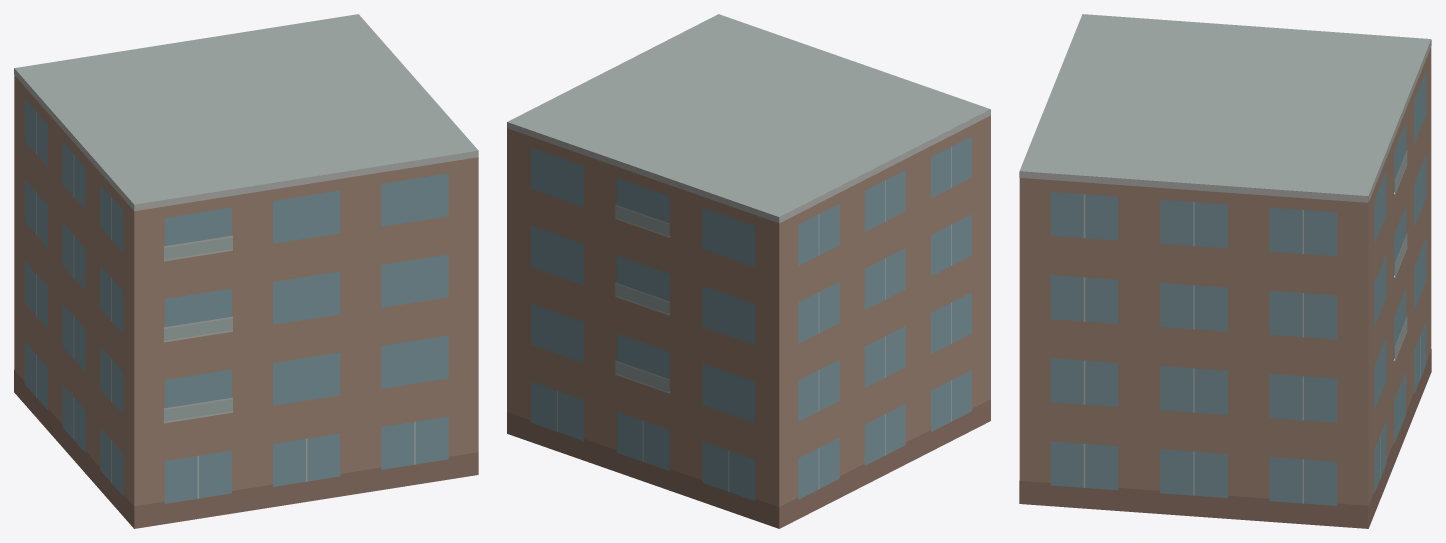
File: residential-7985784a-9c1e-48ae-a13b-d9f78738922c.glb
3 views of the same model, side by side, from view 1: azimuth 30°, elevation 25°; view 2: azimuth 150°, elevation 25°; view 3: azimuth 270°, elevation 25° (orthographic). The views are drawn at different scales.
Parts seen in each view (by area): view 1: residential-7985784a-9c1e-48ae-a13b-d9f78738922c.tmp; view 2: residential-7985784a-9c1e-48ae-a13b-d9f78738922c.tmp; view 3: residential-7985784a-9c1e-48ae-a13b-d9f78738922c.tmp.
Part boxes in pixels (<box>): residential-7985784a-9c1e-48ae-a13b-d9f78738922c.tmp: <box>14,14,478,528</box>; residential-7985784a-9c1e-48ae-a13b-d9f78738922c.tmp: <box>507,14,990,528</box>; residential-7985784a-9c1e-48ae-a13b-d9f78738922c.tmp: <box>1019,14,1431,528</box>.
Size of the model in its own units: 14.34 by 12.2 by 13.7.
